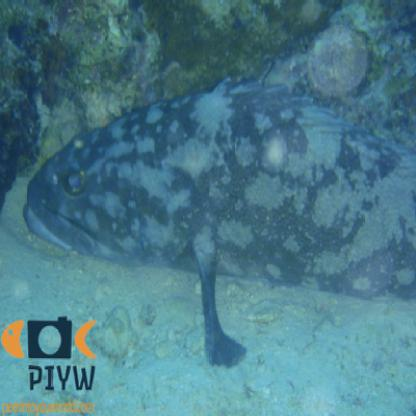grouper: (22, 87, 416, 371)
